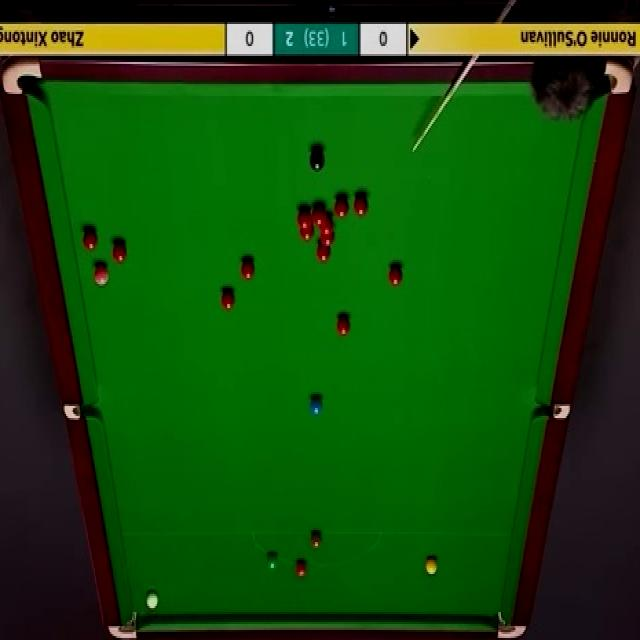black-ball: (309, 147, 325, 173)
blue-ball: (310, 398, 323, 416)
brown-ball: (310, 531, 323, 548)
green-ball: (264, 547, 276, 567)
pink-ball: (92, 262, 110, 286)
red-ball: (110, 240, 129, 266), (333, 312, 352, 335), (82, 230, 99, 253), (312, 201, 326, 226), (388, 265, 404, 286), (296, 208, 312, 229), (334, 197, 349, 219), (353, 195, 368, 217), (242, 258, 256, 279), (300, 224, 314, 242), (222, 290, 234, 310), (321, 214, 334, 232), (318, 242, 329, 263), (296, 559, 307, 578), (321, 227, 334, 243)
white-ball: (146, 590, 159, 608)
yellow-ball: (426, 555, 438, 576)
